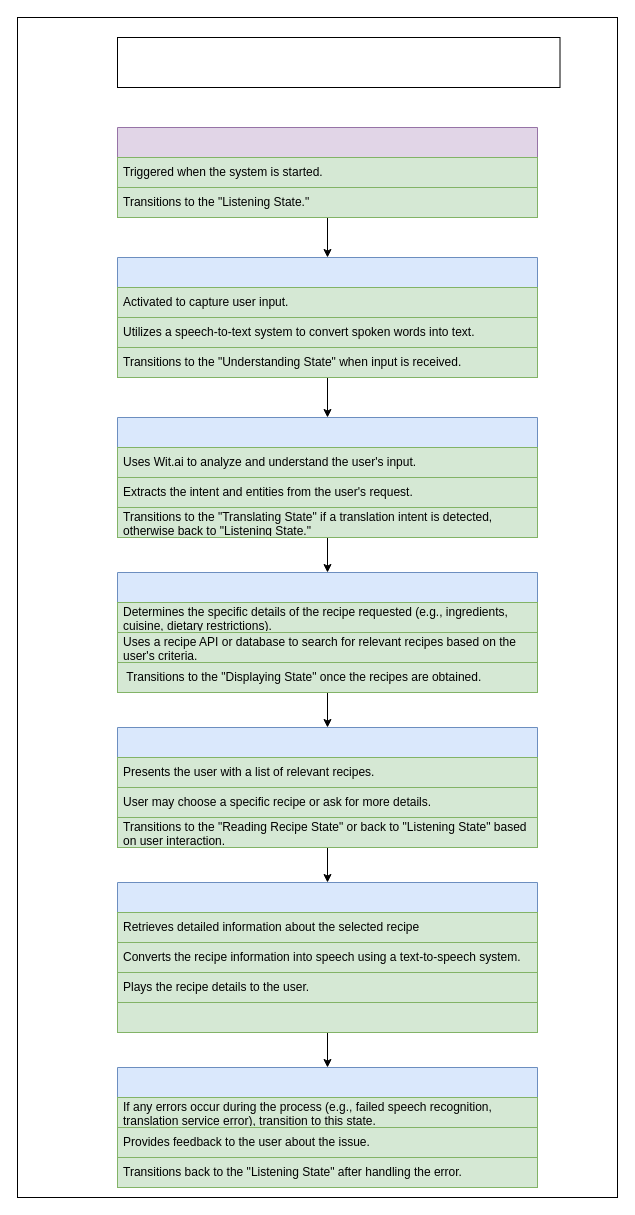
Some shapes in this 635 by 1215 pixel diagram are drawn without their labels. The shapes that lost their labels are listed below. From the top down, each one's box as (x1, y1, x2, y2) in pixels, then its label:
(116, 36, 560, 88): Voice Recipe Search System
(116, 126, 538, 218): Initialization State
(116, 256, 538, 378): Listening State
(116, 416, 538, 538): Understanding State
(116, 572, 538, 692): Recepy Search State
(116, 726, 538, 848): Displaying State
(116, 882, 538, 1002): Reading Recipe State
(116, 1002, 538, 1032): Transitions back to the "Listening State" for the next user input.
(116, 1066, 538, 1188): Error State
